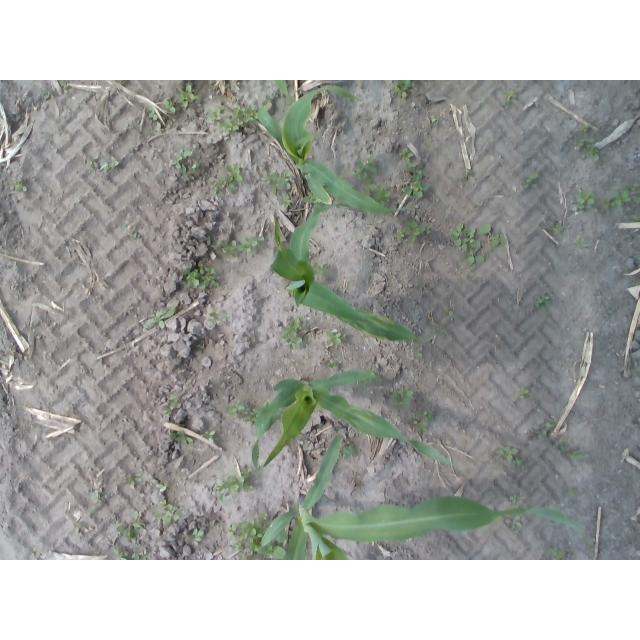Maize: (261, 436, 582, 561), (269, 203, 452, 341), (252, 370, 461, 470), (256, 85, 402, 213), (274, 80, 294, 102)
Weeds: (449, 223, 476, 250), (402, 173, 430, 199), (145, 308, 176, 329), (262, 170, 291, 191), (216, 477, 240, 502), (208, 176, 238, 196), (239, 519, 262, 542), (482, 224, 506, 246), (155, 504, 180, 525), (355, 155, 378, 177), (116, 521, 142, 539), (391, 81, 414, 100), (235, 105, 258, 124), (575, 191, 596, 210), (469, 242, 486, 265), (179, 85, 196, 108), (282, 331, 302, 349), (403, 222, 421, 242), (256, 546, 285, 558), (184, 269, 201, 289), (222, 239, 239, 257), (239, 237, 258, 253), (218, 119, 239, 133), (226, 164, 243, 181), (523, 171, 539, 189), (583, 144, 601, 160), (612, 191, 631, 206), (209, 312, 232, 324), (498, 448, 519, 461), (362, 178, 378, 195), (187, 530, 204, 546), (163, 396, 178, 414), (229, 466, 252, 477), (405, 161, 423, 175), (207, 108, 225, 122), (242, 407, 258, 422), (174, 430, 192, 443), (326, 331, 342, 345), (313, 263, 329, 277), (239, 476, 253, 492), (376, 186, 390, 202), (122, 226, 139, 239), (115, 546, 130, 560), (180, 167, 195, 181), (506, 516, 522, 529), (203, 274, 220, 286), (100, 162, 120, 172), (551, 546, 566, 559), (399, 390, 413, 403), (170, 157, 185, 169), (231, 400, 244, 413), (400, 149, 414, 161), (515, 387, 529, 399), (535, 294, 549, 306), (574, 236, 588, 248), (202, 431, 216, 443), (227, 525, 238, 540), (156, 481, 171, 492), (165, 97, 176, 112), (542, 422, 555, 434), (290, 320, 303, 332), (14, 180, 27, 192), (413, 422, 427, 433), (133, 550, 148, 560), (193, 159, 206, 170), (127, 475, 137, 489), (281, 193, 290, 208), (420, 222, 432, 233), (91, 490, 101, 503), (395, 390, 403, 406), (579, 134, 593, 143), (199, 262, 209, 274), (89, 155, 99, 167), (178, 150, 193, 158), (629, 183, 639, 194), (511, 495, 522, 505), (573, 451, 586, 459), (246, 540, 256, 550), (444, 306, 455, 315), (631, 210, 640, 221), (568, 488, 580, 496), (507, 92, 517, 101), (413, 348, 423, 357), (554, 224, 564, 233), (515, 458, 526, 466), (573, 142, 584, 150), (150, 111, 158, 122), (603, 198, 610, 210), (425, 412, 434, 421), (557, 438, 567, 446), (62, 85, 70, 95), (134, 512, 142, 521), (235, 542, 243, 550), (44, 91, 52, 99), (329, 359, 336, 368), (197, 340, 204, 348), (633, 196, 640, 204), (581, 125, 589, 131), (261, 513, 268, 519), (210, 268, 216, 275), (541, 305, 548, 311), (157, 123, 163, 130), (342, 333, 347, 339)
